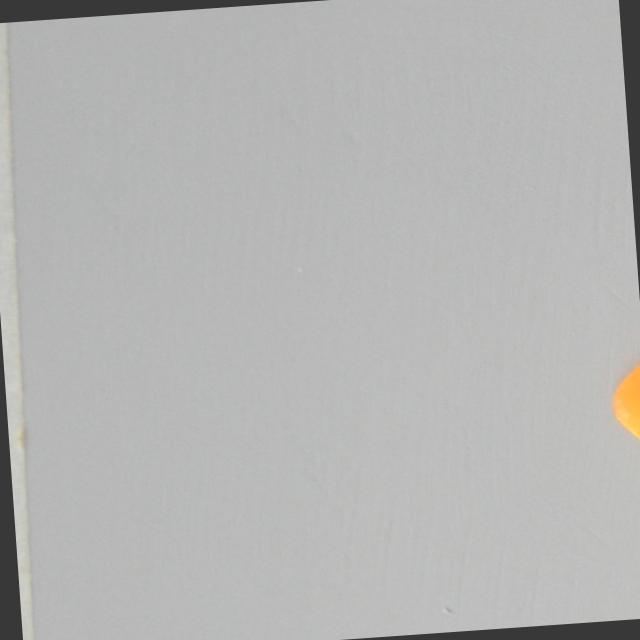no_canjicado: (597, 347, 640, 471)
